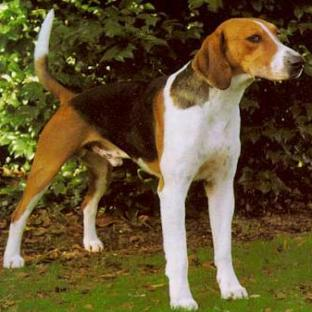Animal: (4, 10, 304, 310)
